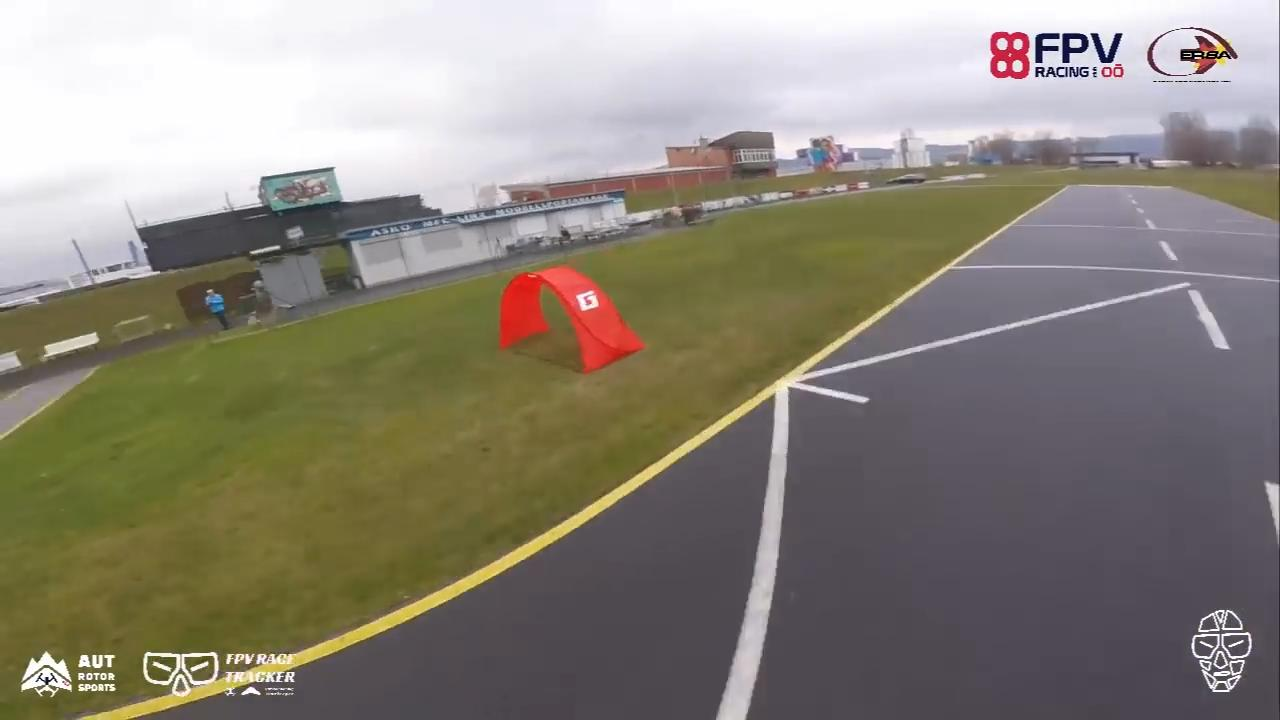gate: (491, 264, 642, 371)
